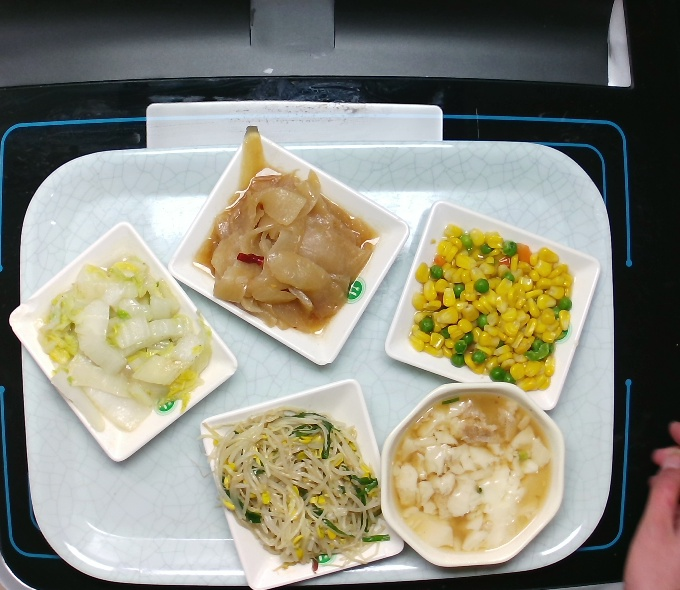wcq-DaBaiCai: (33, 249, 220, 437)
wcq-DongGua: (186, 118, 386, 339)
wcq-DouYa: (194, 402, 397, 578)
wcq-ShuiZhengDan: (385, 386, 563, 558)
wcq-TianMiTianDou: (399, 217, 581, 399)
